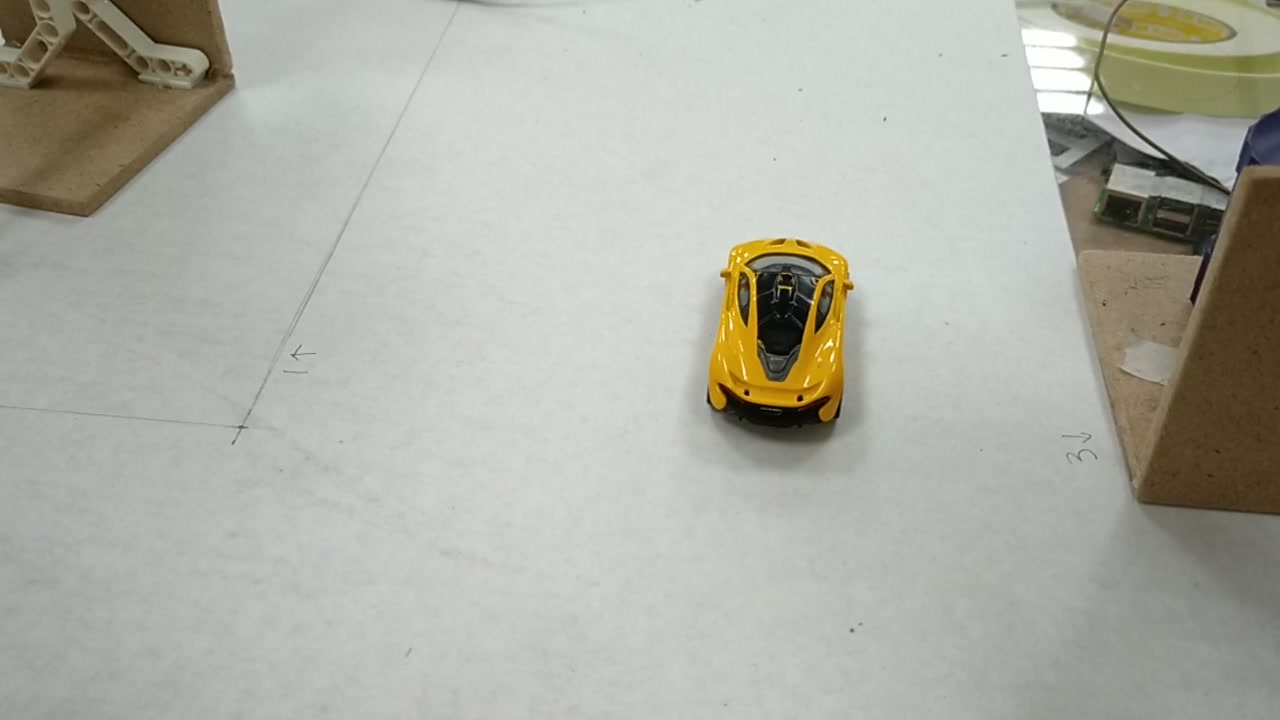car: (704, 244, 850, 424)
